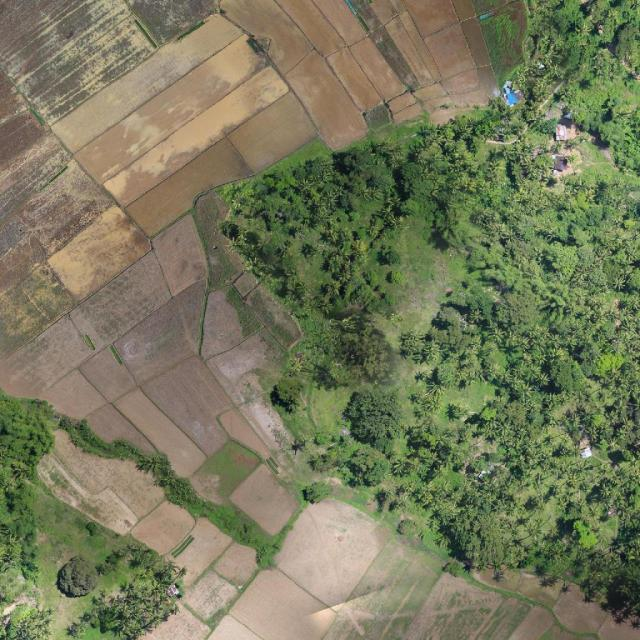agricultural_land: (0, 75, 231, 475), (131, 188, 348, 458), (227, 463, 306, 541), (187, 433, 263, 509), (216, 405, 272, 467)
building: (548, 151, 575, 179), (505, 90, 520, 106), (556, 124, 566, 141)
greenland: (221, 109, 640, 624), (47, 397, 253, 540), (0, 390, 54, 640), (80, 534, 196, 640), (571, 138, 640, 190), (51, 552, 104, 604), (95, 569, 129, 594)
